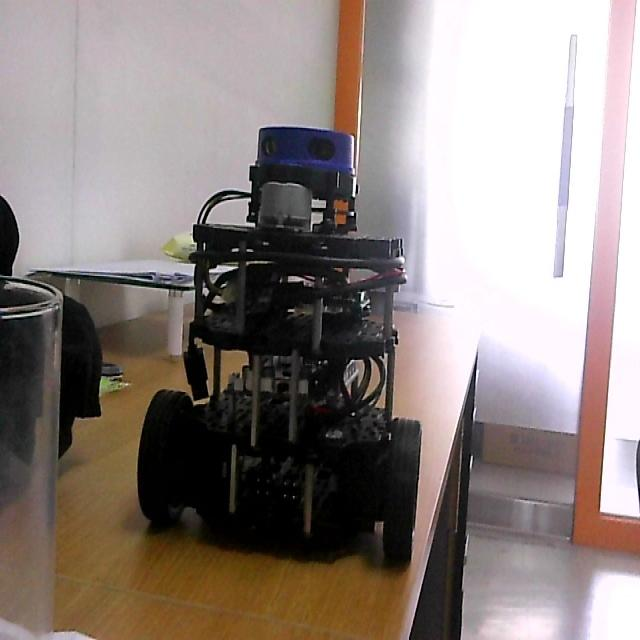turtle: (134, 124, 425, 570)
